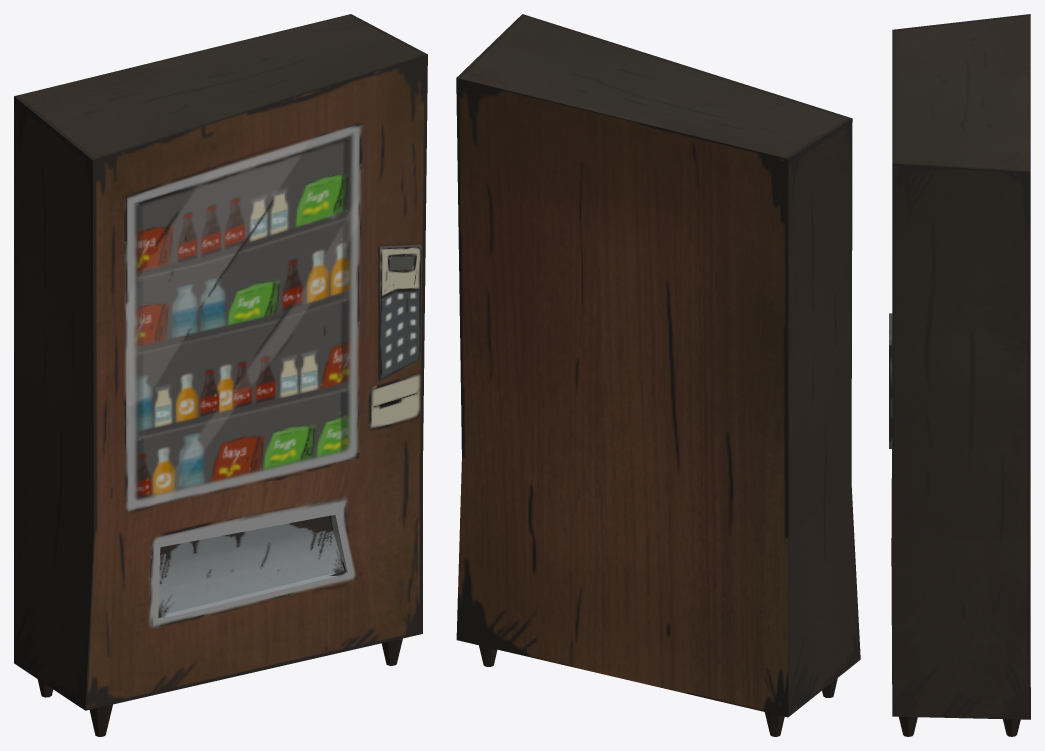
File: Vending_maching.fbx
The picture shows the model from 3 angles, left to right: view 1: azimuth 30°, elevation 25°; view 2: azimuth 150°, elevation 25°; view 3: azimuth 270°, elevation 25°; orthographic projection. The views are drawn at different scales.
Visible parts, largest first — view 1: Vending_maching; view 2: Vending_maching; view 3: Vending_maching.
Part boxes in pixels (x1,y1,x2,y2): Vending_maching: (14,14,427,736); Vending_maching: (456,14,860,736); Vending_maching: (889,14,1030,736).
Size of the model in its own units: 143 by 243 by 53.43.
